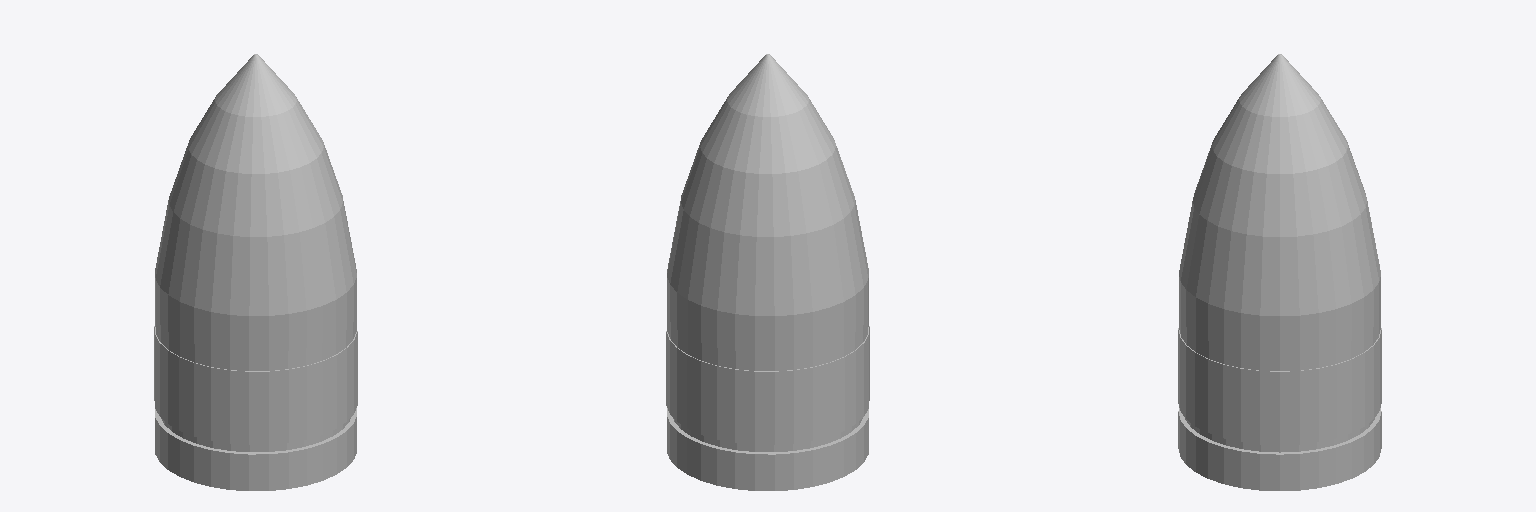
The model's file is Bullet.obj.
The picture shows the model from 3 angles: view 1: azimuth 30°, elevation 25°; view 2: azimuth 150°, elevation 25°; view 3: azimuth 270°, elevation 25°; orthographic projection.
Visible parts, largest first — view 1: 円柱; view 2: 円柱; view 3: 円柱.
Part boxes in pixels (x1,y1,x2,y2): 円柱: (154, 54, 357, 490); 円柱: (666, 54, 869, 490); 円柱: (1178, 54, 1381, 490).
Bounding box in the file's own units: 1 × 2.19 × 1.